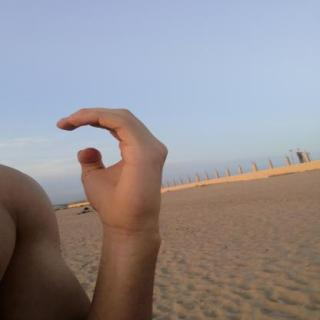JEEM: (43, 98, 180, 235)
